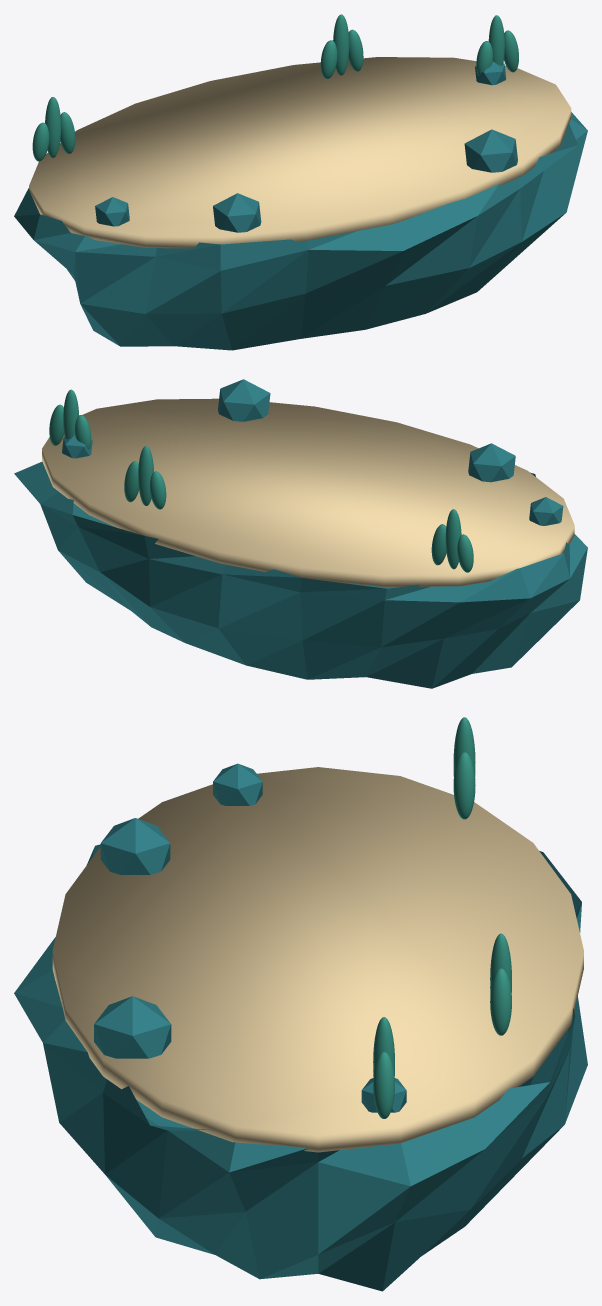
File: island.glb
3 renders of one model, top to bottom at view 1: azimuth 30°, elevation 25°; view 2: azimuth 150°, elevation 25°; view 3: azimuth 270°, elevation 25°, orthographic. The views are drawn at different scales.
Visible parts, largest first — view 1: Sandy cap, Faceted rocky island, Faceted stone.002, Faceted stone.001, Faceted stone, Kelp leaf.004, Kelp leaf.001, Kelp leaf.007, Kelp leaf, Kelp leaf.003, Kelp leaf.005, Kelp leaf.002 (+2 smaller); view 2: Sandy cap, Faceted rocky island, Faceted stone.002, Faceted stone.001, Faceted stone, Kelp leaf.001, Kelp leaf.004, Kelp leaf.007, Kelp leaf.008, Kelp leaf, Kelp leaf.003, Kelp leaf.005 (+3 smaller); view 3: Sandy cap, Faceted rocky island, Faceted stone.002, Faceted stone.001, Faceted stone, Kelp leaf.002, Kelp leaf.005, Kelp leaf.008, Kelp leaf.001, Kelp leaf.004, Kelp leaf.007, Faceted stone.003.
Part boxes in pixels (box(x1,y1,x2,y2)): Sandy cap: box(29, 57, 571, 248); Faceted rocky island: box(14, 112, 587, 350); Faceted stone.002: box(464, 129, 517, 172); Faceted stone.001: box(213, 193, 261, 232); Faceted stone: box(95, 197, 129, 226); Kelp leaf.004: box(333, 14, 349, 75); Kelp leaf.001: box(45, 97, 61, 157); Kelp leaf.007: box(488, 15, 504, 65); Kelp leaf: box(32, 122, 49, 161); Kelp leaf.003: box(320, 40, 337, 78); Kelp leaf.005: box(348, 29, 363, 71); Kelp leaf.002: box(60, 112, 75, 153); Sandy cap: box(42, 398, 574, 586); Faceted rocky island: box(14, 461, 587, 688); Faceted stone.002: box(218, 379, 270, 421); Faceted stone.001: box(468, 443, 515, 482); Faceted stone: box(529, 497, 563, 525); Kelp leaf.001: box(445, 509, 461, 569); Kelp leaf.004: box(138, 446, 153, 505); Kelp leaf.007: box(63, 389, 79, 439); Kelp leaf.008: box(49, 404, 64, 445); Kelp leaf: box(457, 534, 473, 572); Kelp leaf.003: box(149, 471, 166, 509); Kelp leaf.005: box(124, 461, 138, 502); Sandy cap: box(52, 767, 583, 1152); Faceted rocky island: box(14, 844, 587, 1291); Faceted stone.002: box(94, 996, 171, 1058); Faceted stone.001: box(100, 818, 170, 874); Faceted stone: box(213, 763, 262, 805); Kelp leaf.002: box(453, 752, 475, 819); Kelp leaf.005: box(490, 968, 511, 1035); Kelp leaf.008: box(373, 1052, 394, 1118); Kelp leaf.001: box(453, 717, 475, 774); Kelp leaf.004: box(490, 933, 511, 991); Kelp leaf.007: box(373, 1017, 394, 1074); Faceted stone.003: box(361, 1078, 406, 1112).
Bounding box in the file's own units: 6.23 × 2.21 × 3.93.
